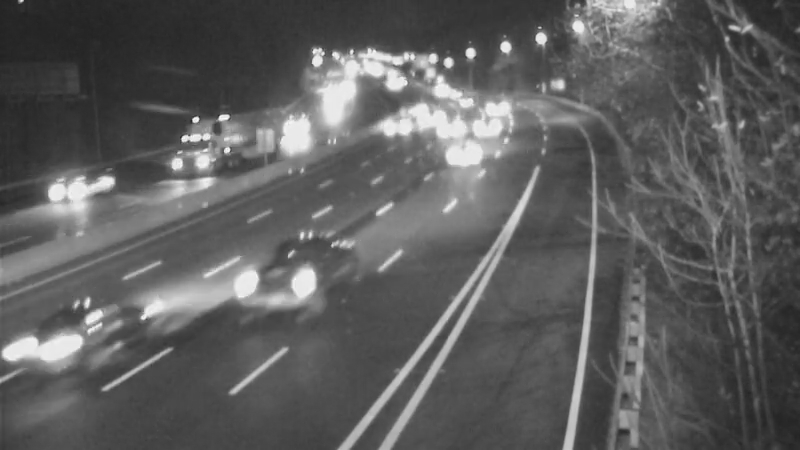vehicle: (2, 276, 112, 386), (249, 234, 329, 314), (24, 147, 104, 227), (152, 116, 232, 196), (412, 64, 462, 114), (436, 80, 486, 130), (389, 85, 439, 135), (466, 84, 516, 134), (409, 93, 459, 143), (462, 101, 512, 151), (430, 104, 480, 154), (376, 98, 426, 148), (437, 125, 487, 175), (276, 108, 326, 158)
